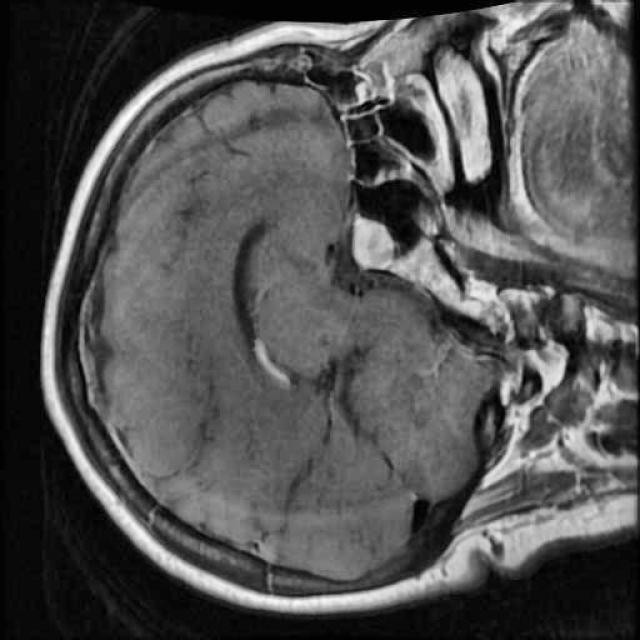Tumor: (339, 206, 406, 279)
